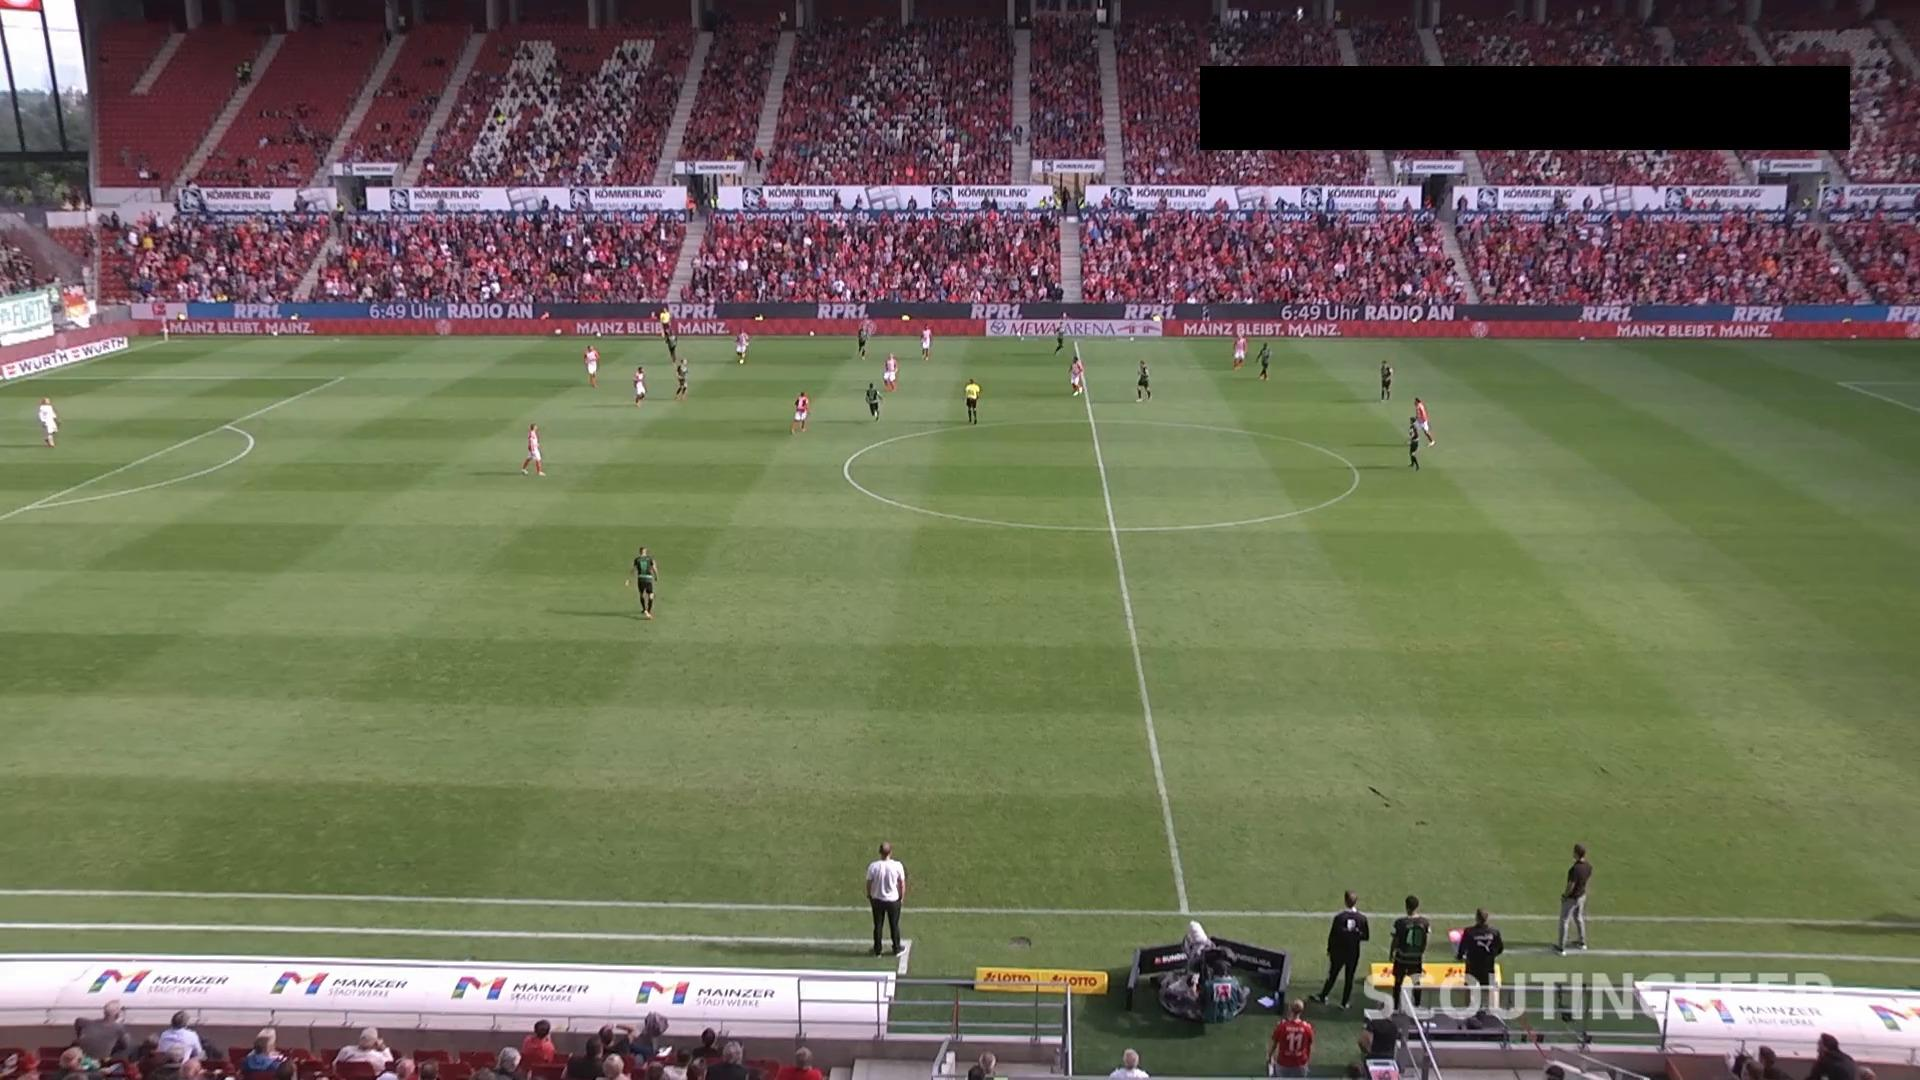keeper: (38, 397, 62, 448)
player: (625, 546, 659, 621), (523, 421, 545, 476), (1412, 394, 1435, 446), (1405, 415, 1424, 471), (791, 391, 811, 433), (1254, 340, 1274, 382), (1135, 358, 1154, 402), (583, 344, 601, 389), (865, 381, 885, 420), (1066, 355, 1085, 396), (1377, 360, 1395, 403), (734, 325, 750, 365), (1231, 332, 1247, 372), (632, 365, 647, 406), (675, 357, 689, 400), (885, 352, 898, 390), (665, 328, 678, 364), (856, 323, 869, 359), (921, 323, 932, 362), (1054, 319, 1065, 355)
referee: (963, 377, 981, 425), (658, 305, 674, 339)
